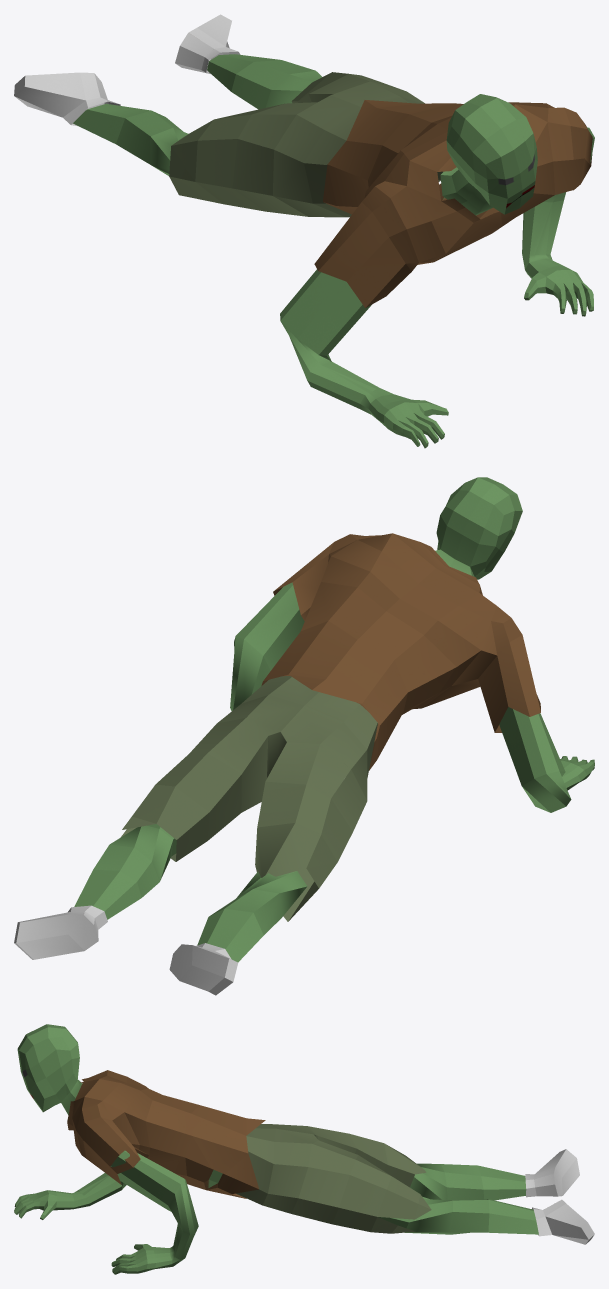
The model's file is ZombieCrawl(31).obj.
3 views of the same model, one above another, from view 1: azimuth 30°, elevation 25°; view 2: azimuth 150°, elevation 25°; view 3: azimuth 270°, elevation 25° (orthographic). The views are drawn at different scales.
Visible parts, largest first — view 1: Object001; view 2: Object001; view 3: Object001.
Boxes of the visible parts, <box> form: Object001: <box>14,14,594,448</box>; Object001: <box>14,477,594,995</box>; Object001: <box>14,1024,594,1274</box>.
Size of the model in its own units: 26.89 by 24.58 by 59.43.
